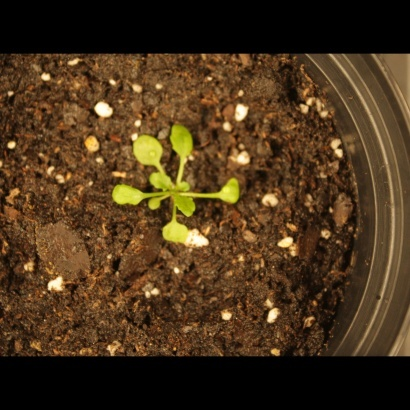leaf: (125, 130, 167, 169), (105, 178, 146, 214), (167, 122, 201, 164), (215, 171, 245, 210), (158, 220, 193, 250), (171, 191, 202, 220), (149, 170, 176, 194), (145, 193, 168, 216), (176, 172, 199, 195)
